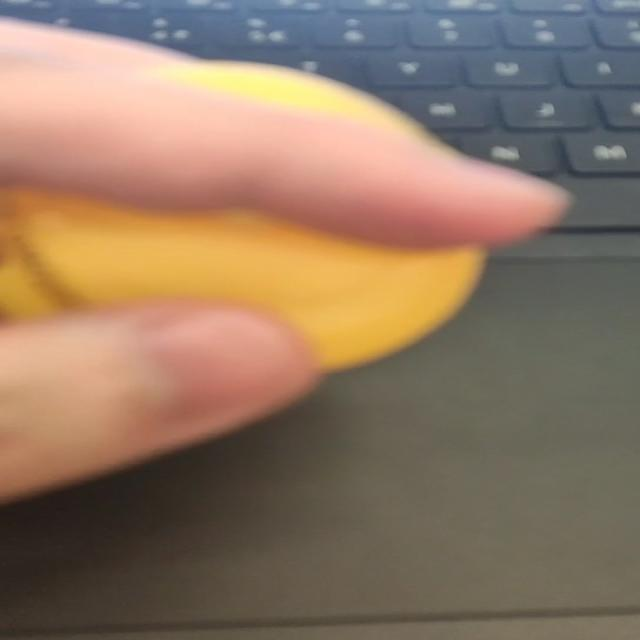rubber-duck: (0, 30, 487, 408), (0, 426, 213, 496)
